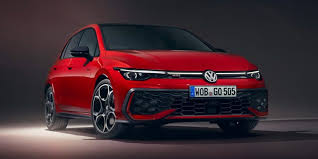car: (38, 22, 270, 138)
